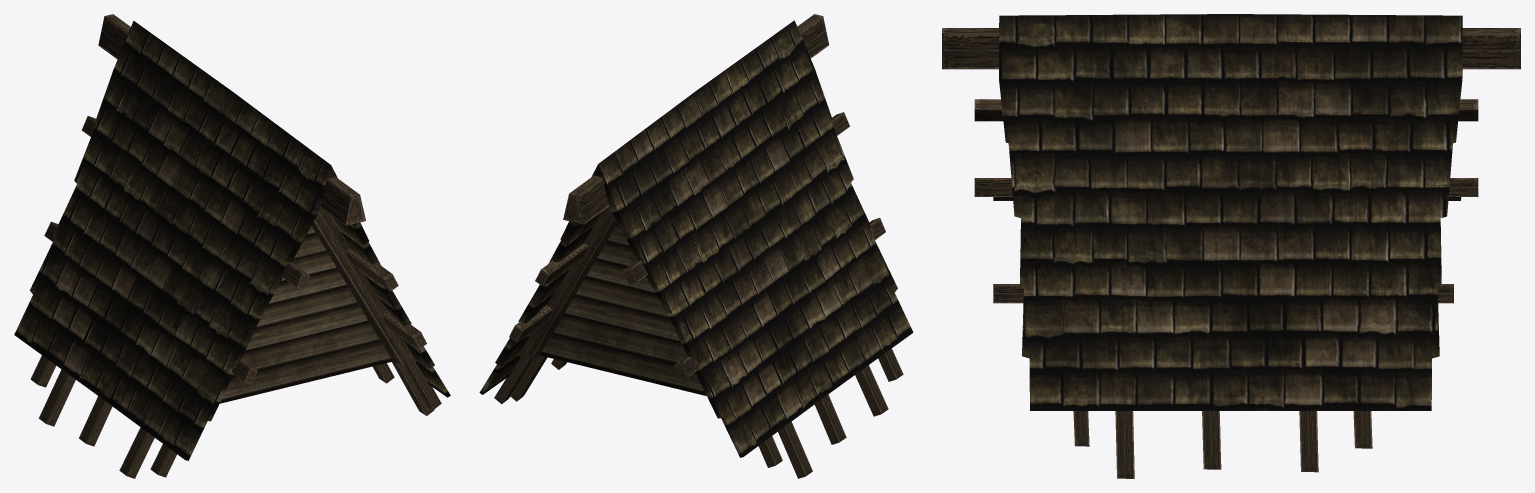
Rendered from Roof_4X4_01c.fbx.
3 renders of one model, left to right at view 1: azimuth 30°, elevation 25°; view 2: azimuth 150°, elevation 25°; view 3: azimuth 270°, elevation 25°, orthographic. The views are drawn at different scales.
Parts seen in each view (by area): view 1: Roof_4X4_01c; view 2: Roof_4X4_01c; view 3: Roof_4X4_01c.
Part boxes in pixels (x1,y1,x2,y2): Roof_4X4_01c: (14, 14, 450, 478); Roof_4X4_01c: (479, 14, 913, 478); Roof_4X4_01c: (942, 14, 1520, 478).
Bounding box in the file's own units: 5.21 × 5.3 × 7.29.
